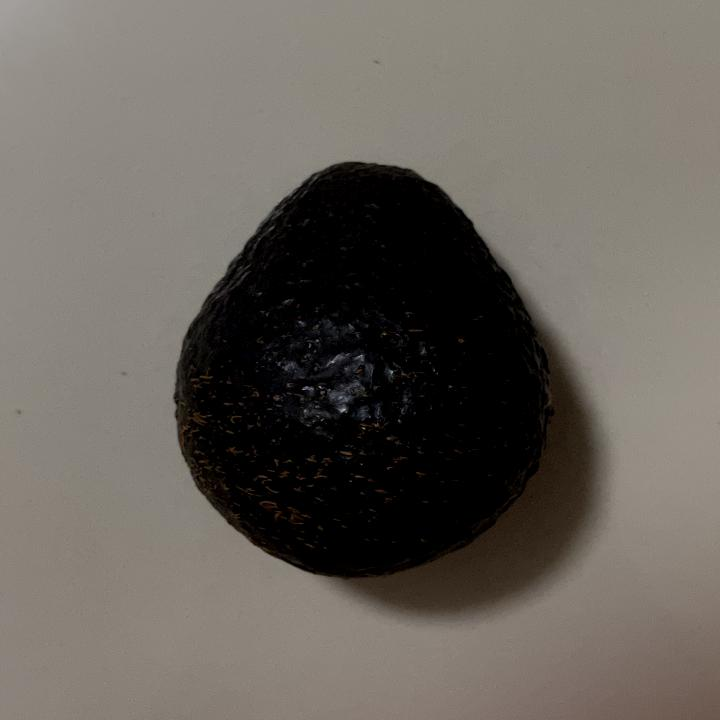Level3: (162, 151, 566, 585)
